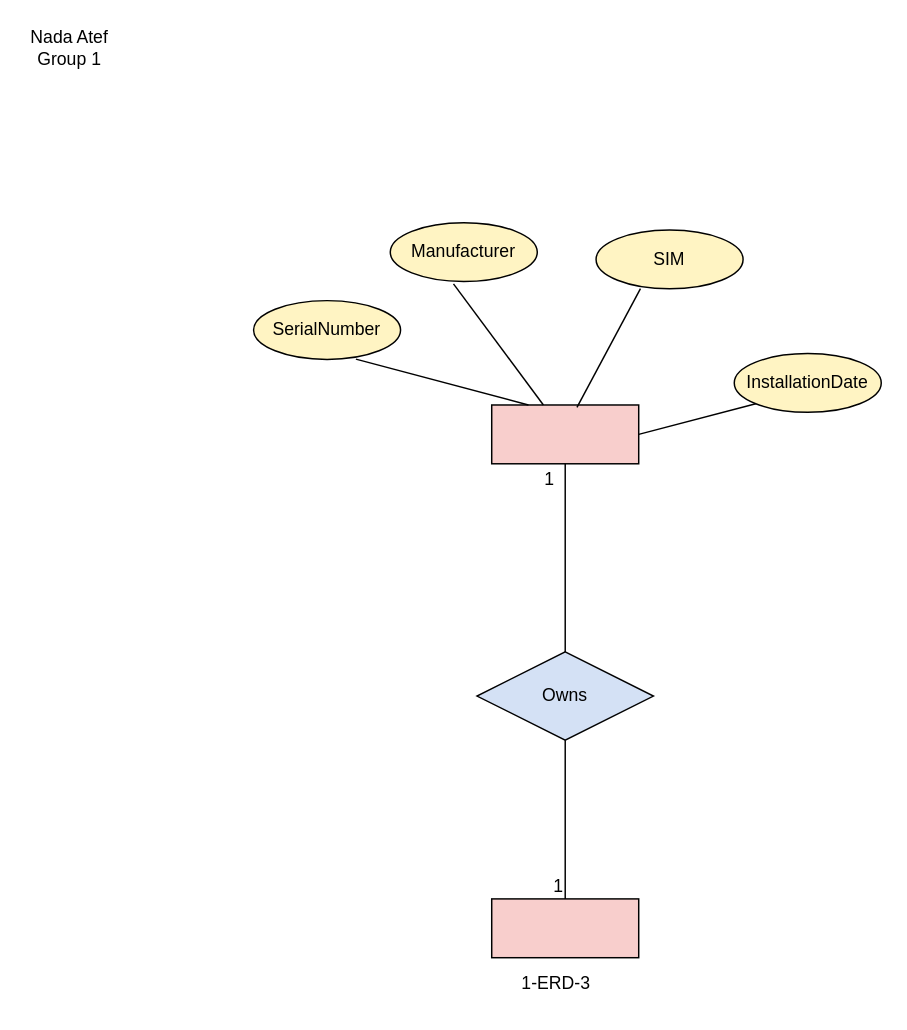
Image size: 907x1030. Some labels were removed from this diagram. The centre of each missing label's shape, as x and y in pixels:
"GPS" goes at pixel 564 434.
"Vehicle" goes at pixel 564 927.
